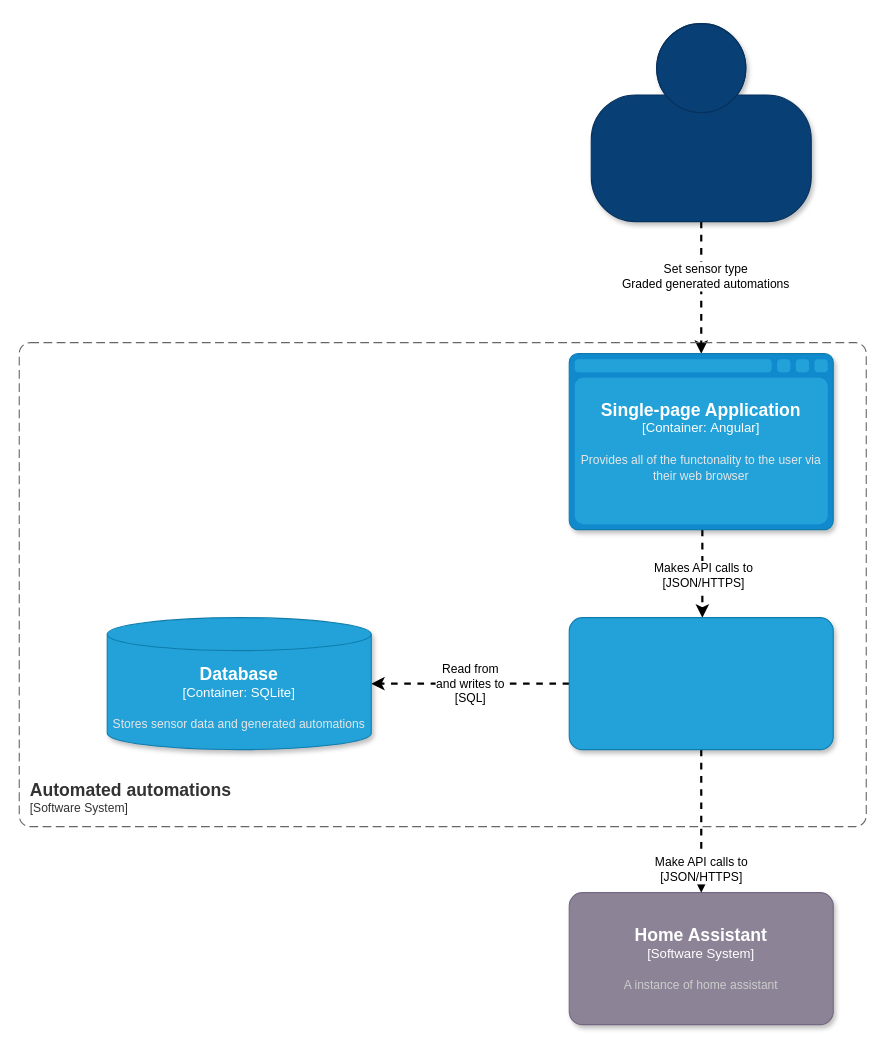
The diagram is 886 pixels wide and 1052 high, and some of its shapes have lost their labels. Here are the shapes that lost their labels. From the top down, the centre of each, then its label:
(702,123): Home Assistant user [Person] A user that wants to automate his home
(702,684): API [Container: Python] Provides functionality via HTTPS API
